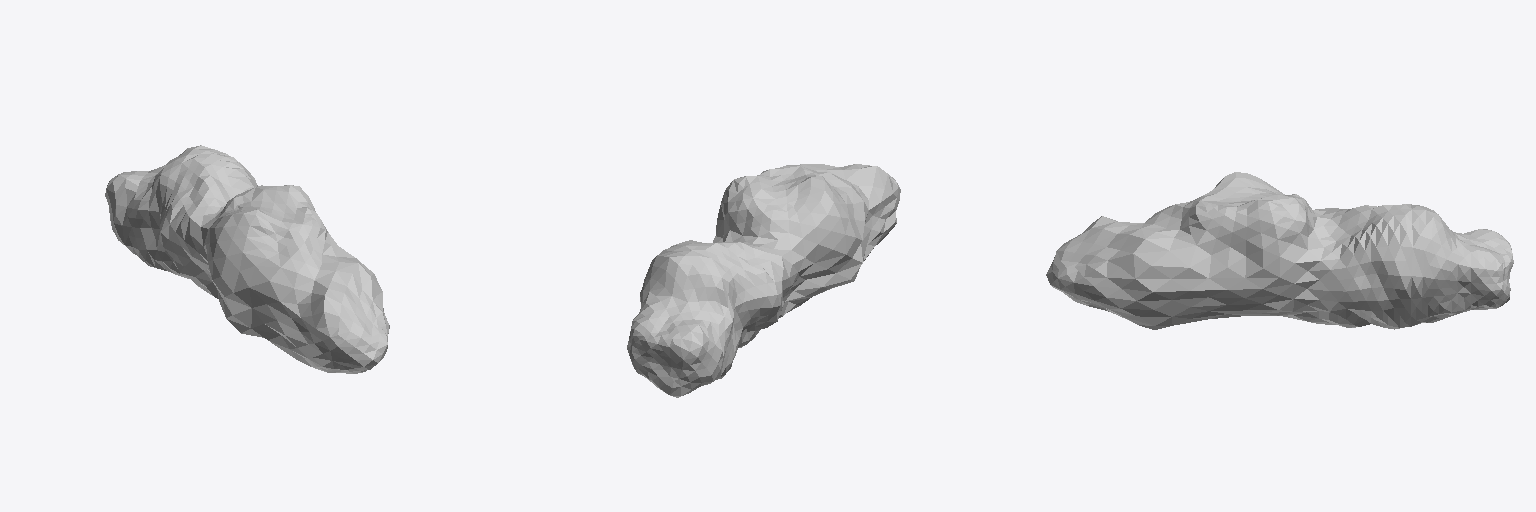
The model's file is CloudMedium2.obj.
3 renders of one model, left to right at view 1: azimuth 30°, elevation 25°; view 2: azimuth 150°, elevation 25°; view 3: azimuth 270°, elevation 25°, orthographic.
Parts seen in each view (by area): view 1: Cloud_Medium_2; view 2: Cloud_Medium_2; view 3: Cloud_Medium_2.
Part boxes in pixels (bbox=[...]): Cloud_Medium_2: bbox=[105, 145, 389, 373]; Cloud_Medium_2: bbox=[627, 164, 900, 397]; Cloud_Medium_2: bbox=[1046, 172, 1513, 329].
Size of the model in its own units: 2.19 by 2.32 by 7.21.